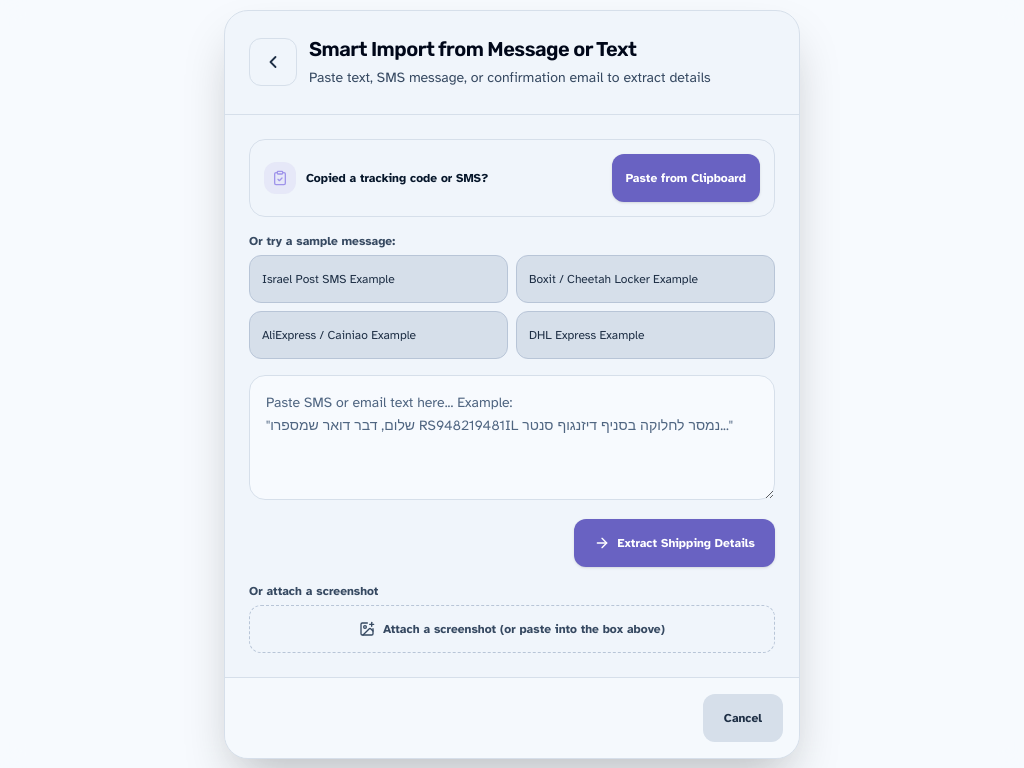
Test: SmartImportModal (rendered) › parses pasted text and shows the extracted tracking number and carrier
Type "Tracking RS948219483IL has arrived at the branch." into the text box at (512, 437), box [249, 374, 775, 499]
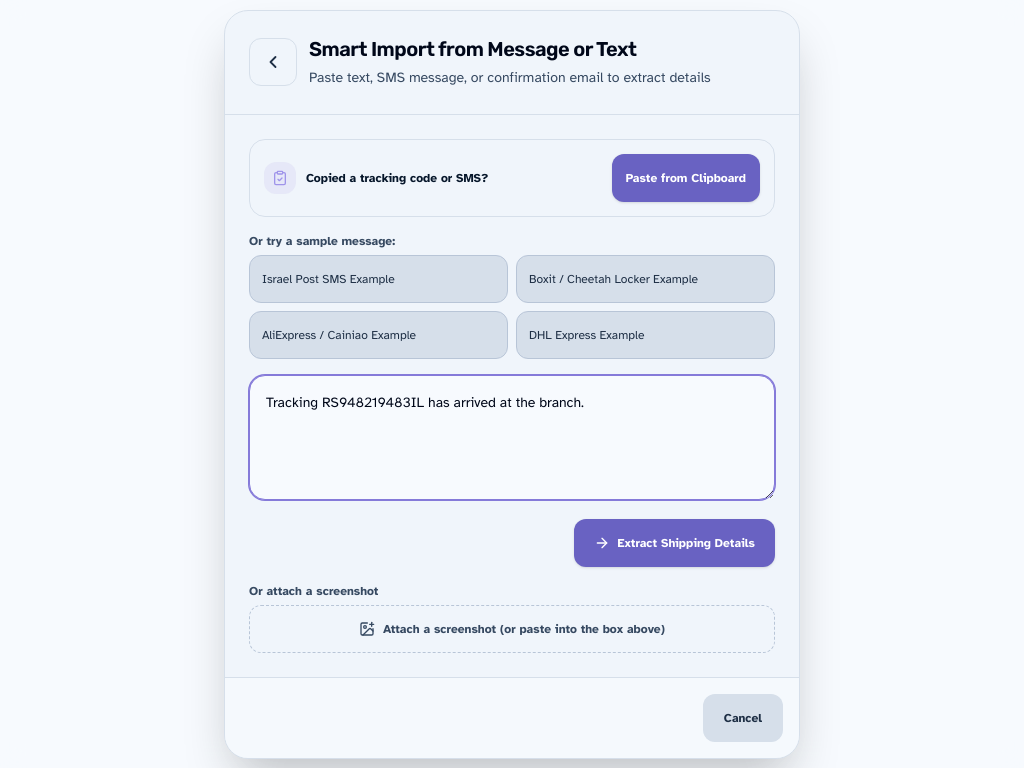
Click the button "Extract Shipping Details" at (674, 542), box [574, 518, 775, 566]
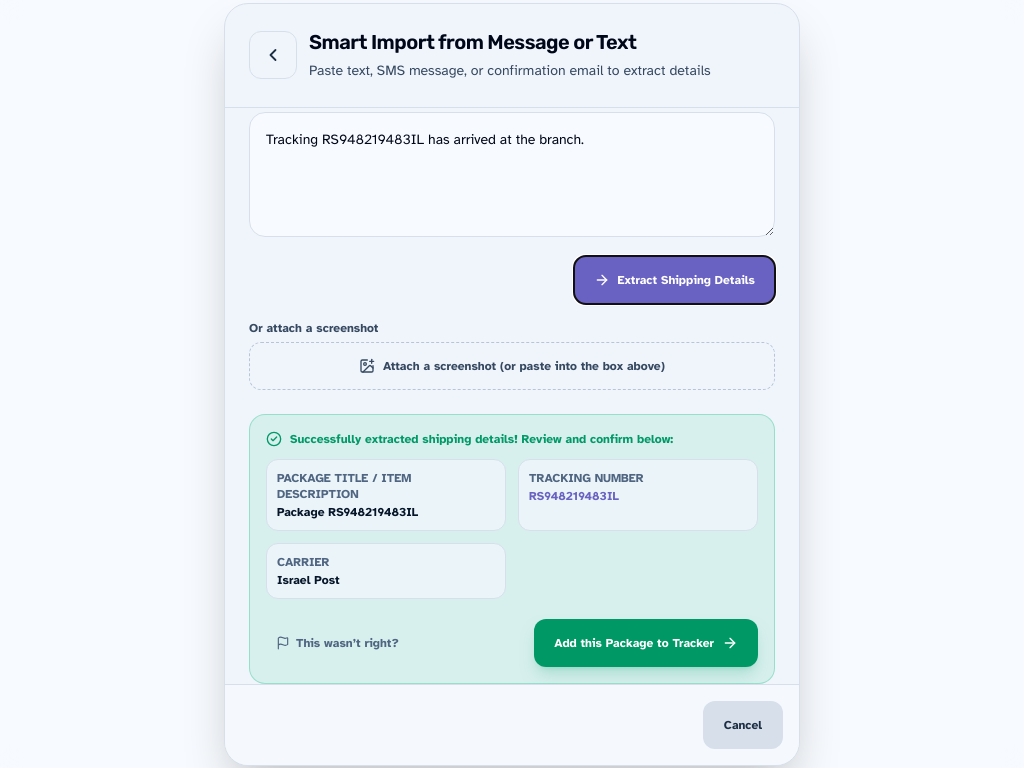
Expected: the text "Israel Post" is shown, [277, 572, 340, 586]
Expected: the text "RS948219483IL" is shown, [529, 488, 619, 502]
Expected: the button "Add this Package to Tracker" is shown, [534, 618, 758, 666]
